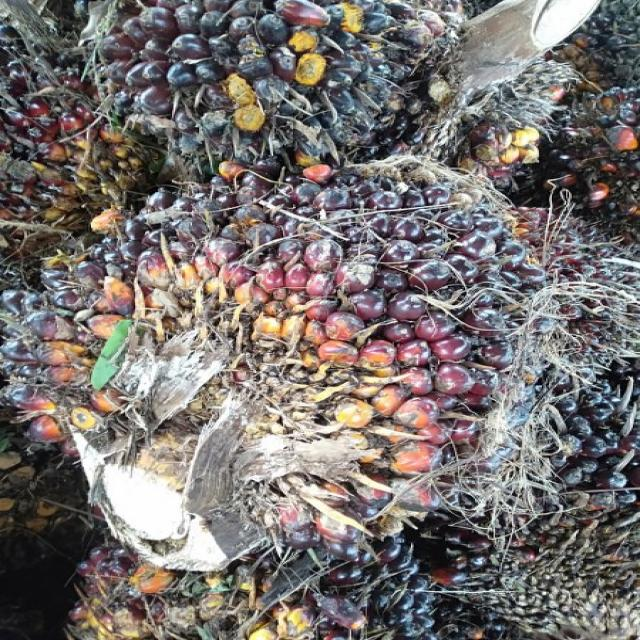fraksi 00: (0, 165, 544, 571)
